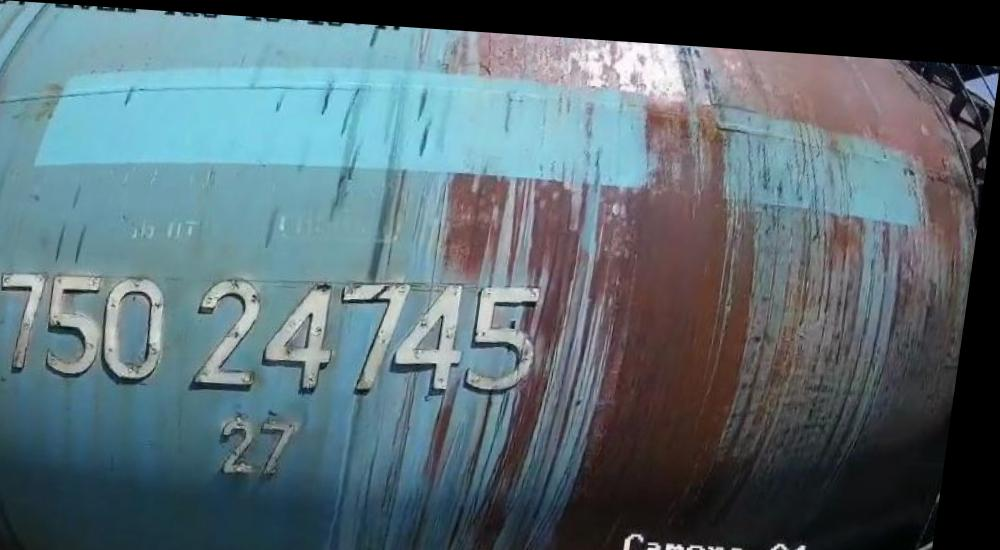Wagon-number: (0, 243, 563, 404)
